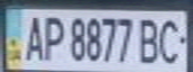7: (115, 13, 136, 64), (100, 15, 118, 63)
8: (66, 12, 87, 62), (84, 14, 103, 63)
A: (18, 11, 48, 62)
B: (136, 15, 163, 65)
C: (154, 15, 187, 66)
P: (39, 11, 66, 62)
